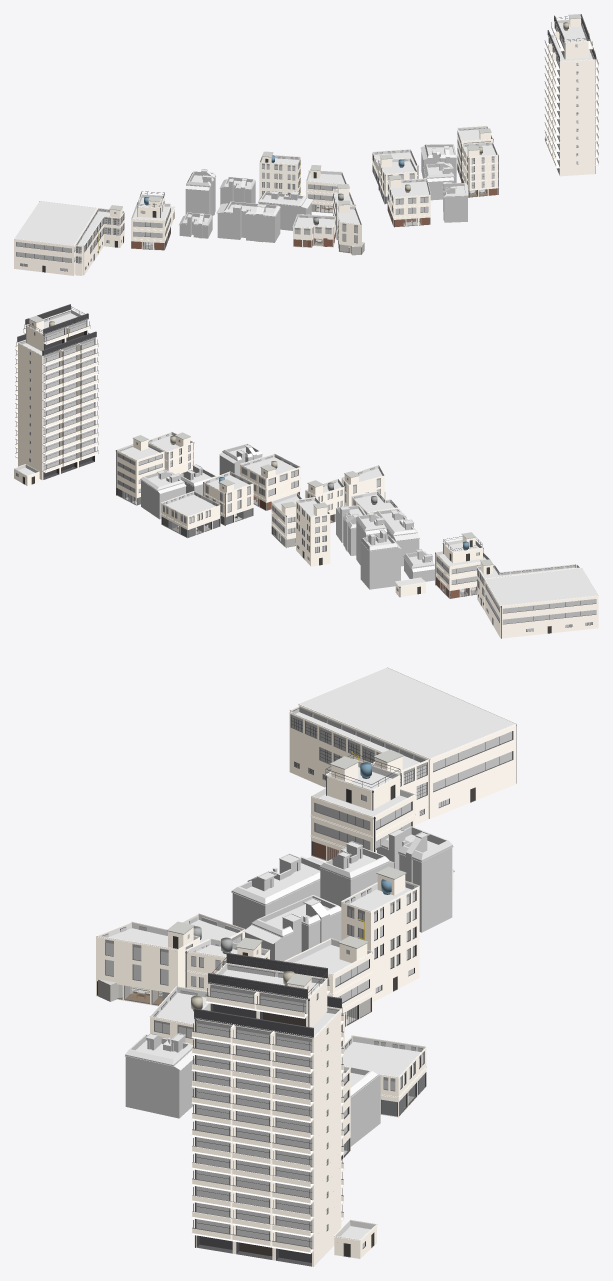
3 renders of one model, top to bottom at view 1: azimuth 30°, elevation 25°; view 2: azimuth 150°, elevation 25°; view 3: azimuth 270°, elevation 25°, orthographic. The views are drawn at different scales.
Visible parts, largest first — view 1: 서울특별시 성동구 성수동2가 835.002, 서울특별시 성동구 성수동2가 289-320.001, 서울특별시 성동구 성수동2가 289-73, 서울특별시 성동구 성수동2가 289-320, 서울특별시 성동구 성수동2가 289-329, 서울특별시 성동구 성수동2가 289-237, 서울특별시 성동구 성수동2가 289-234, 서울특별시 성동구 성수동2가 289-83, 서울특별시 성동구 성수동2가 289-75, 서울특별시 성동구 성수동2가 289-80, 서울특별시 성동구 성수동2가 289-84, 서울특별시 성동구 성수동2가 289-77 (+9 smaller); view 2: 서울특별시 성동구 성수동2가 835.002, 서울특별시 성동구 성수동2가 289-320.001, 서울특별시 성동구 성수동2가 289-329, 서울특별시 성동구 성수동2가 289-231, 서울특별시 성동구 성수동2가 289-237, 서울특별시 성동구 성수동2가 289-80, 서울특별시 성동구 성수동2가 289-83, 서울특별시 성동구 성수동2가 289-233, 서울특별시 성동구 성수동2가 289-236, 서울특별시 성동구 성수동2가 289-232, 서울특별시 성동구 성수동2가 289-73, 서울특별시 성동구 성수동2가 289-234 (+11 smaller); view 3: 서울특별시 성동구 성수동2가 835.002, 서울특별시 성동구 성수동2가 289-320.001, 서울특별시 성동구 성수동2가 289-329, 서울특별시 성동구 성수동2가 289-83, 서울특별시 성동구 성수동2가 289-76, 서울특별시 성동구 성수동2가 289-320, 서울특별시 성동구 성수동2가 289-238, 서울특별시 성동구 성수동2가 289-80, 서울특별시 성동구 성수동2가 289-231, 서울특별시 성동구 성수동2가 289-77, 서울특별시 성동구 성수동2가 289-73, 서울특별시 성동구 성수동2가 289-84 (+6 smaller).
Part boxes in pixels (x1,y1,x2,y2): 서울특별시 성동구 성수동2가 835.002: (544,14,598,176); 서울특별시 성동구 성수동2가 289-320.001: (14,201,97,275); 서울특별시 성동구 성수동2가 289-73: (216,201,280,242); 서울특별시 성동구 성수동2가 289-320: (75,208,124,275); 서울특별시 성동구 성수동2가 289-329: (131,191,170,250); 서울특별시 성동구 성수동2가 289-237: (387,178,430,227); 서울특별시 성동구 성수동2가 289-234: (461,142,498,197); 서울특별시 성동구 성수동2가 289-83: (259,154,300,199); 서울특별시 성동구 성수동2가 289-75: (292,214,336,247); 서울특별시 성동구 성수동2가 289-80: (185,169,215,216); 서울특별시 성동구 성수동2가 289-84: (305,170,346,213); 서울특별시 성동구 성수동2가 289-77: (258,191,312,230); 서울특별시 성동구 성수동2가 835.002: (15,304,98,480); 서울특별시 성동구 성수동2가 289-320.001: (485,568,598,638); 서울특별시 성동구 성수동2가 289-329: (435,536,490,599); 서울특별시 성동구 성수동2가 289-231: (161,491,220,538); 서울특별시 성동구 성수동2가 289-237: (240,453,300,510); 서울특별시 성동구 성수동2가 289-80: (360,529,401,589); 서울특별시 성동구 성수동2가 289-83: (295,497,330,566); 서울특별시 성동구 성수동2가 289-233: (116,443,164,505); 서울특별시 성동구 성수동2가 289-236: (203,471,253,525); 서울특별시 성동구 성수동2가 289-232: (140,470,186,519); 서울특별시 성동구 성수동2가 289-73: (375,508,419,566); 서울특별시 성동구 성수동2가 289-234: (148,431,194,474); 서울특별시 성동구 성수동2가 835.002: (191,953,344,1266); 서울특별시 성동구 성수동2가 289-320.001: (298,667,516,818); 서울특별시 성동구 성수동2가 289-329: (310,753,415,861); 서울특별시 성동구 성수동2가 289-83: (341,881,419,1001); 서울특별시 성동구 성수동2가 289-76: (96,921,200,1006); 서울특별시 성동구 성수동2가 289-320: (289,705,428,825); 서울특별시 성동구 성수동2가 289-238: (125,1033,194,1118); 서울특별시 성동구 성수동2가 289-80: (376,826,453,932); 서울특별시 성동구 성수동2가 289-231: (341,1035,426,1117); 서울특별시 성동구 성수동2가 289-77: (243,895,341,961); 서울특별시 성동구 성수동2가 289-73: (231,853,324,929); 서울특별시 성동구 성수동2가 289-84: (284,938,372,1027).
Bounding box in the file's own units: 192 × 45.07 × 62.83.
